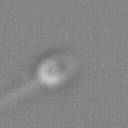normal: (1, 74, 37, 113)
